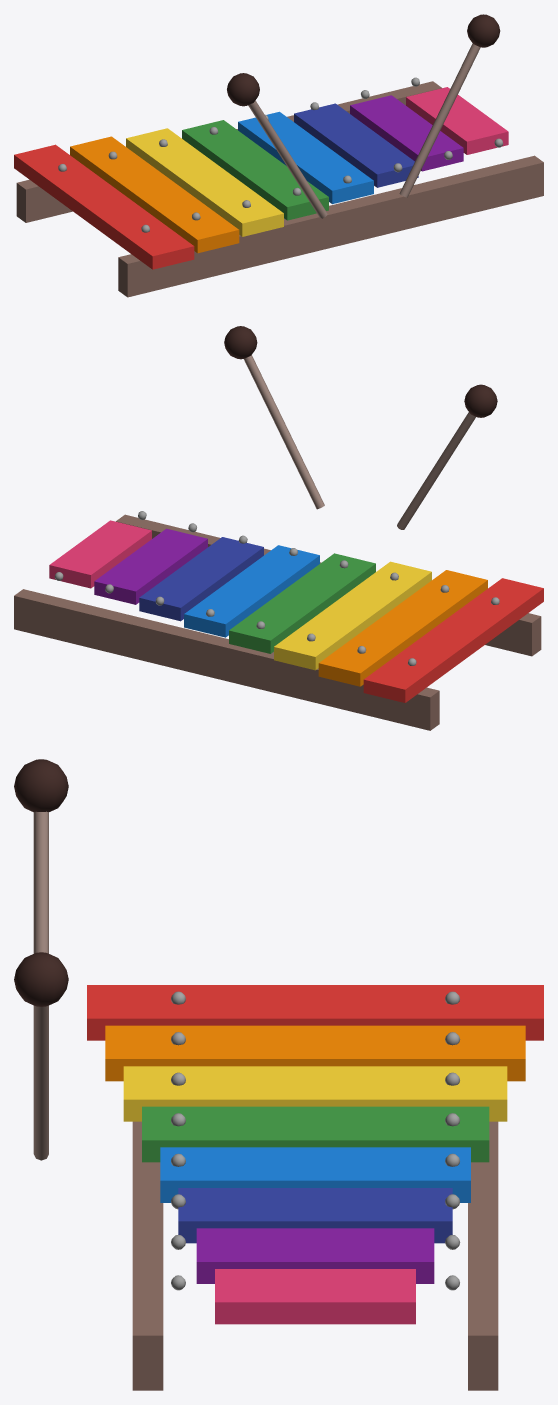
Rendered from xylophone.glb.
3 renders of one model, top to bottom at view 1: azimuth 30°, elevation 25°; view 2: azimuth 150°, elevation 25°; view 3: azimuth 270°, elevation 25°, orthographic. The views are drawn at different scales.
Visible parts, largest first — view 1: xylophone; view 2: xylophone; view 3: xylophone.
Part boxes in pixels (x1,y1,x2,y2): xylophone: [14, 14, 543, 297]; xylophone: [14, 326, 543, 730]; xylophone: [14, 759, 543, 1390].
Size of the model in its own units: 2.6 by 1.32 by 1.74.
